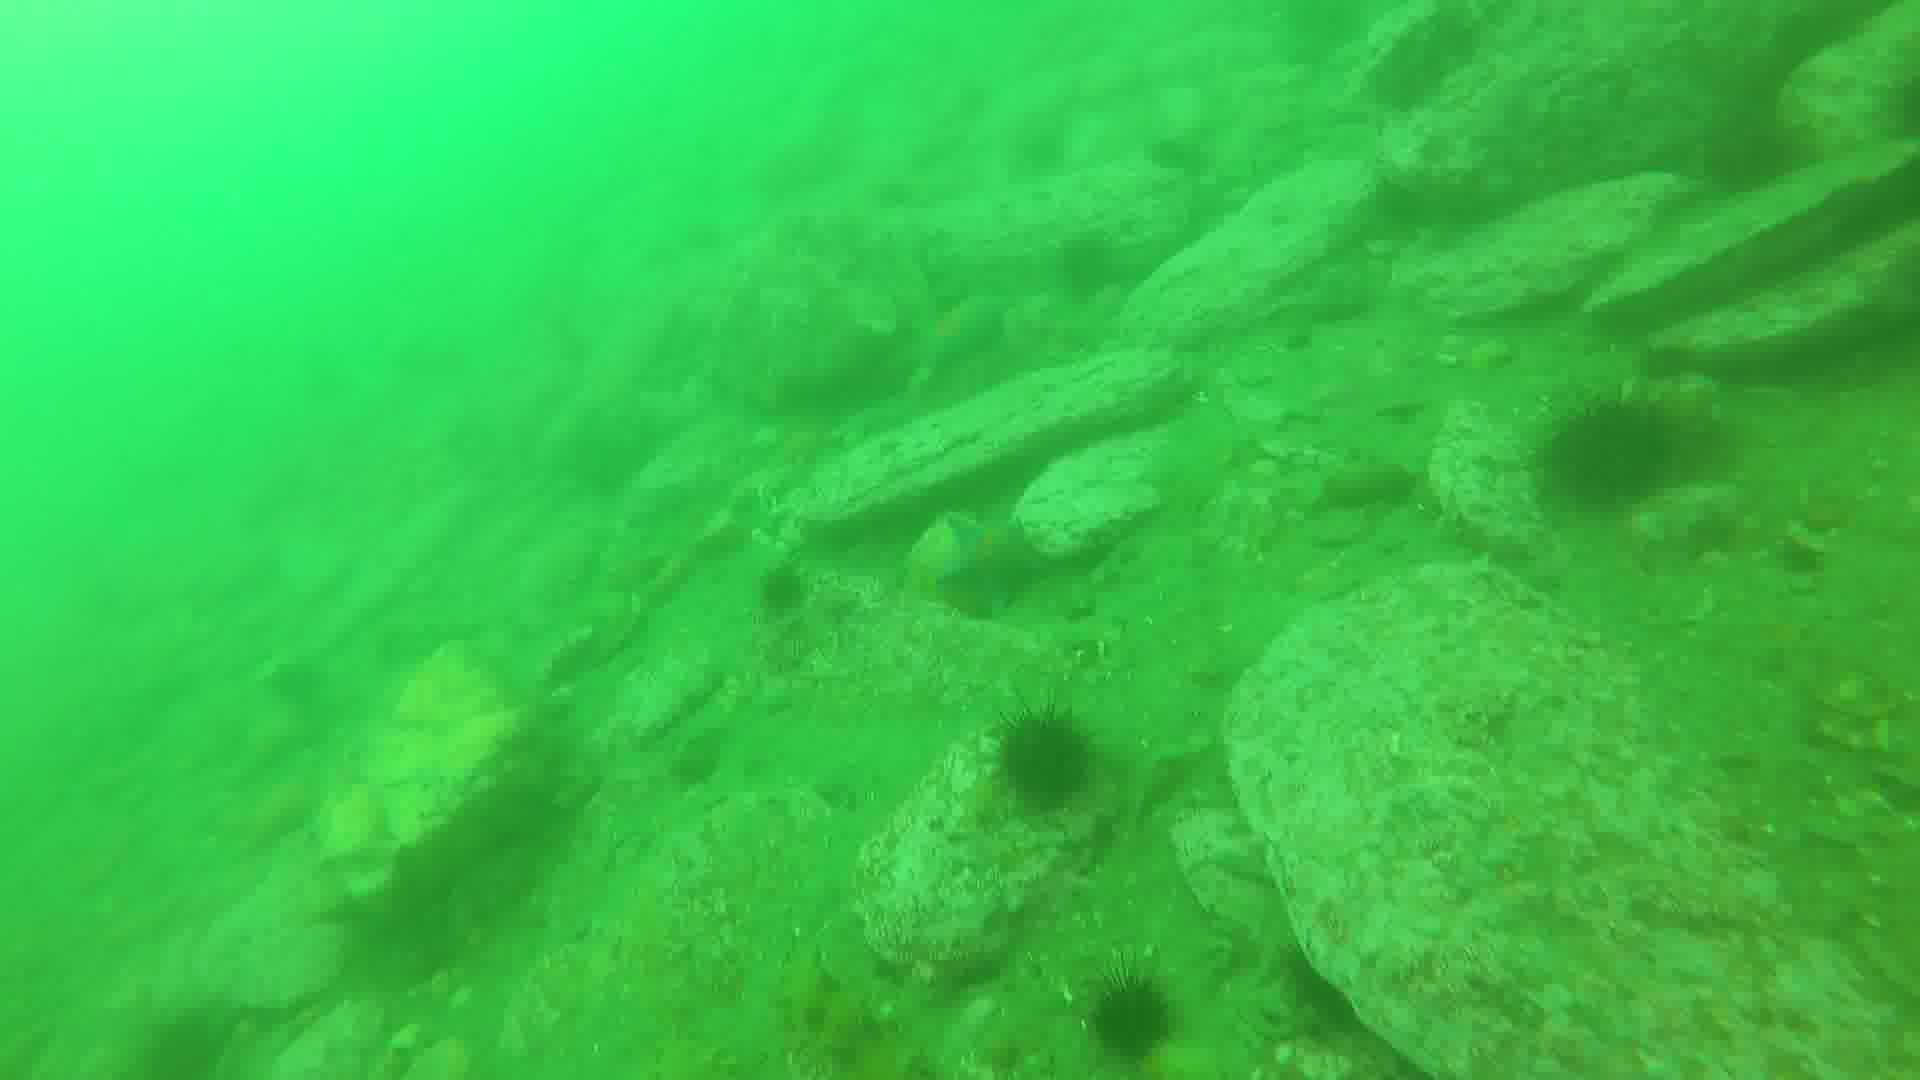echinus: (1560, 384, 1681, 512), (1002, 712, 1097, 815), (1097, 969, 1176, 1062)
holothurian: (770, 949, 934, 1080)
starfish: (939, 517, 1052, 616)
